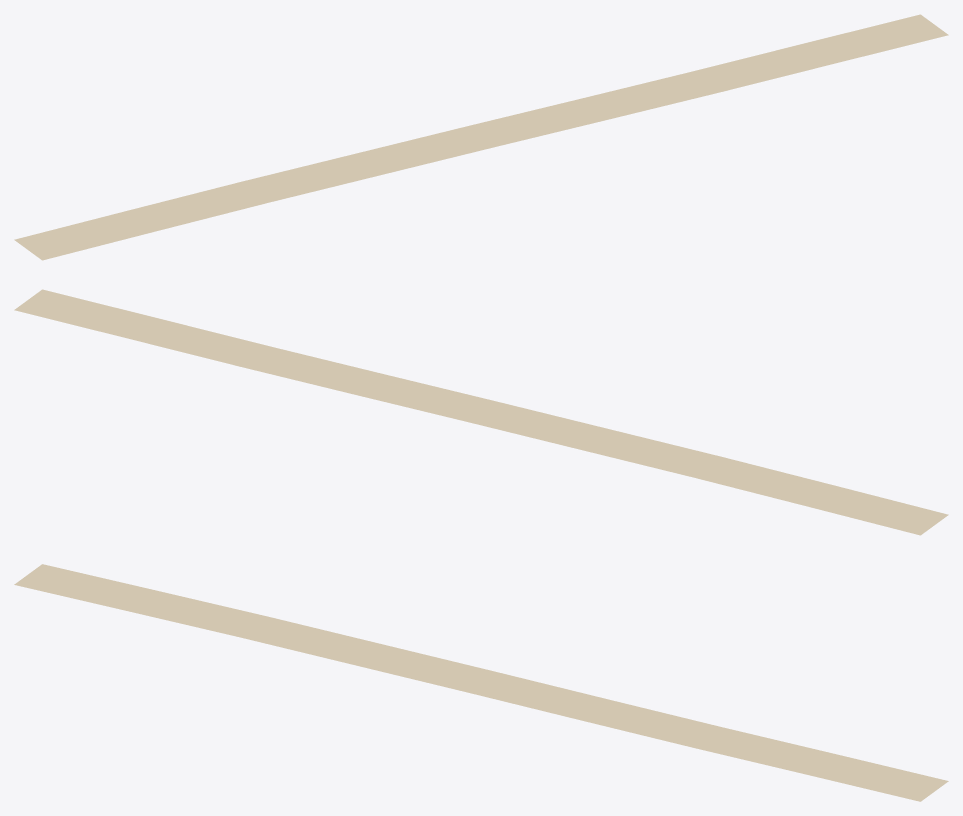
The model's file is eb_path_2380.glb.
The picture shows the model from 3 angles, top to bottom: view 1: azimuth 30°, elevation 25°; view 2: azimuth 150°, elevation 25°; view 3: azimuth 330°, elevation 25°; orthographic projection.
Visible parts, largest first — view 1: eb_path_2380_lod0; view 2: eb_path_2380_lod0; view 3: eb_path_2380_lod0.
Part boxes in pixels (x1,y1,x2,y2): eb_path_2380_lod0: [14, 14, 948, 260]; eb_path_2380_lod0: [14, 289, 948, 535]; eb_path_2380_lod0: [14, 564, 948, 801].
Size of what is drawn, in the model's own units: 48 by 0.21 by 2.6.
